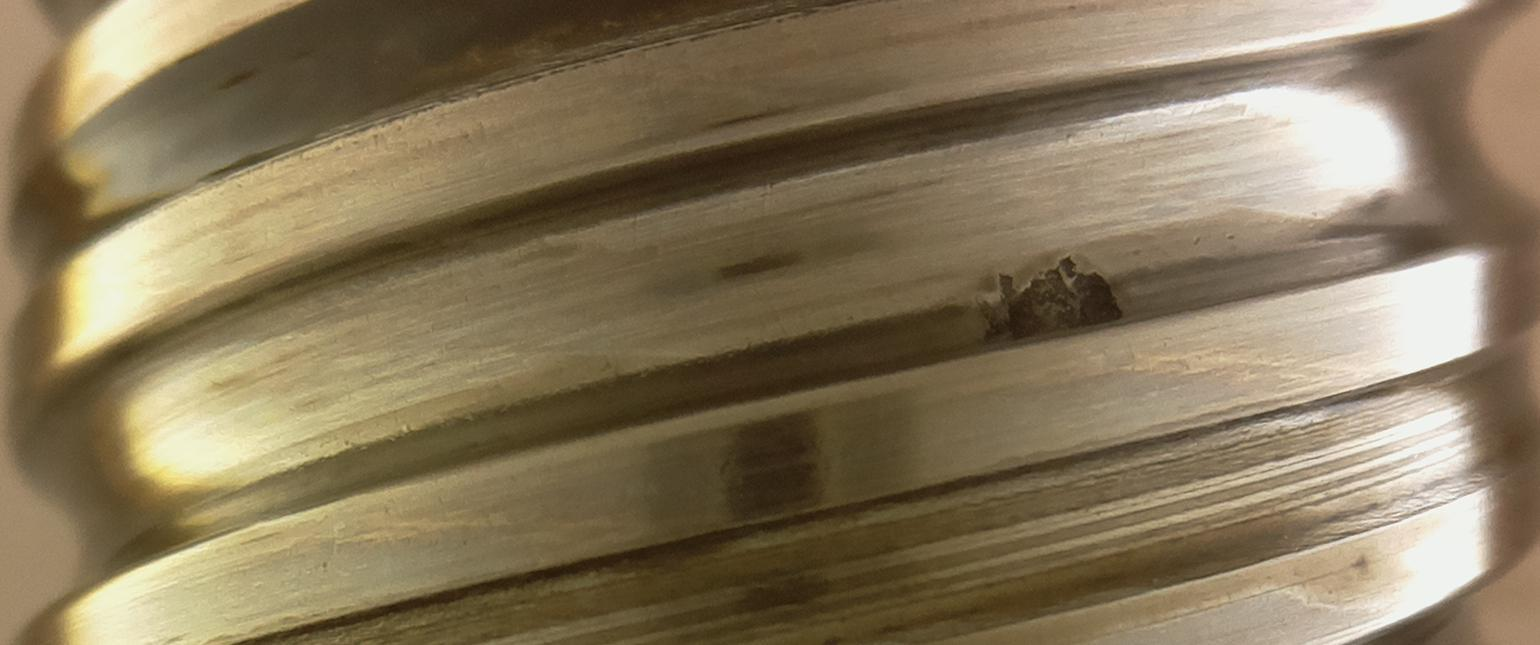pitting: (984, 256, 1121, 343)
